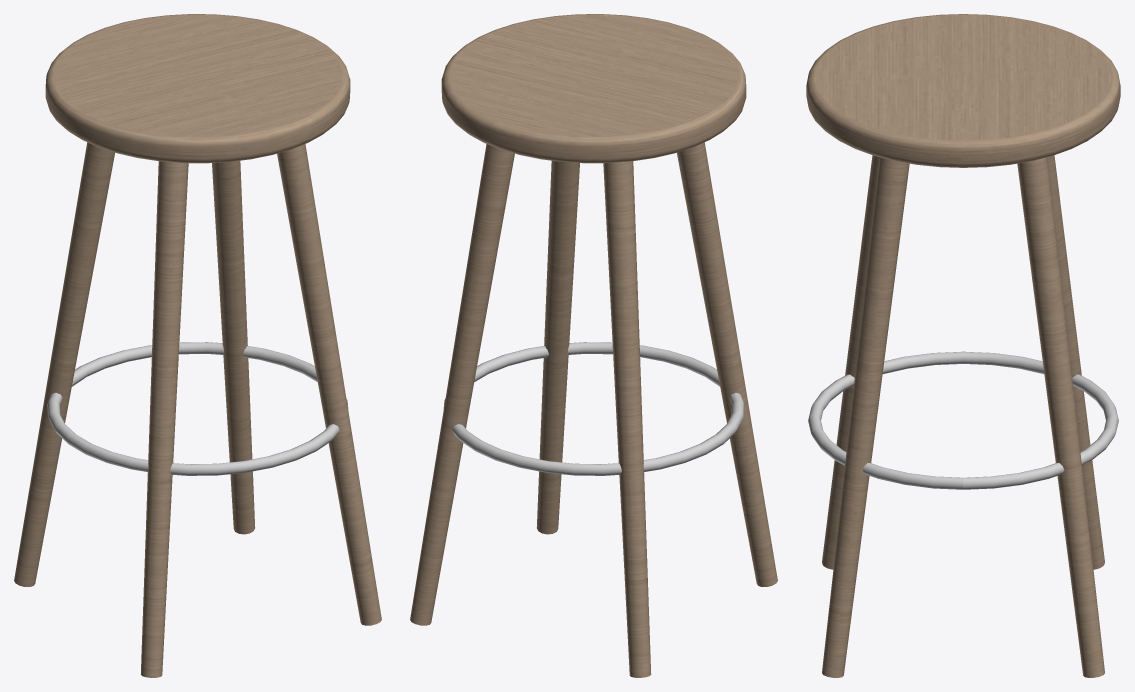
Rendered from bar_stool.glb.
3 views of the same model, side by side, from view 1: azimuth 30°, elevation 25°; view 2: azimuth 150°, elevation 25°; view 3: azimuth 270°, elevation 25° (orthographic). The views are drawn at different scales.
Visible parts, largest first — view 1: bar_stool_smooth, bar_stool_hard; view 2: bar_stool_smooth, bar_stool_hard; view 3: bar_stool_smooth, bar_stool_hard.
Part boxes in pixels (x1,y1,x2,y2): bar_stool_smooth: (14, 142, 381, 677); bar_stool_hard: (45, 14, 350, 163); bar_stool_smooth: (410, 142, 777, 677); bar_stool_hard: (441, 14, 746, 163); bar_stool_smooth: (808, 155, 1118, 677); bar_stool_hard: (806, 14, 1120, 167).
Bounding box in the file's own units: 0.34 × 0.6489 × 0.34.
Materials: 2 (1 with a texture image).
